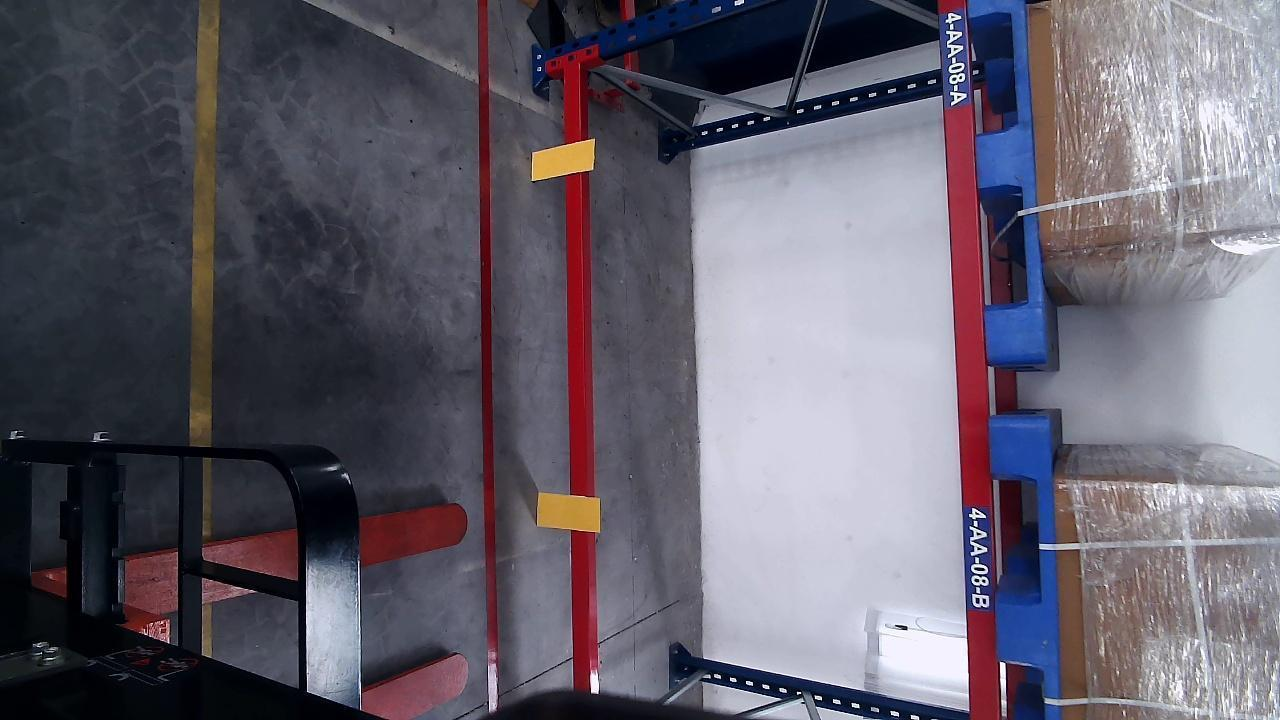red_line: (477, 1, 499, 715)
yellow_line: (190, 0, 220, 440)
